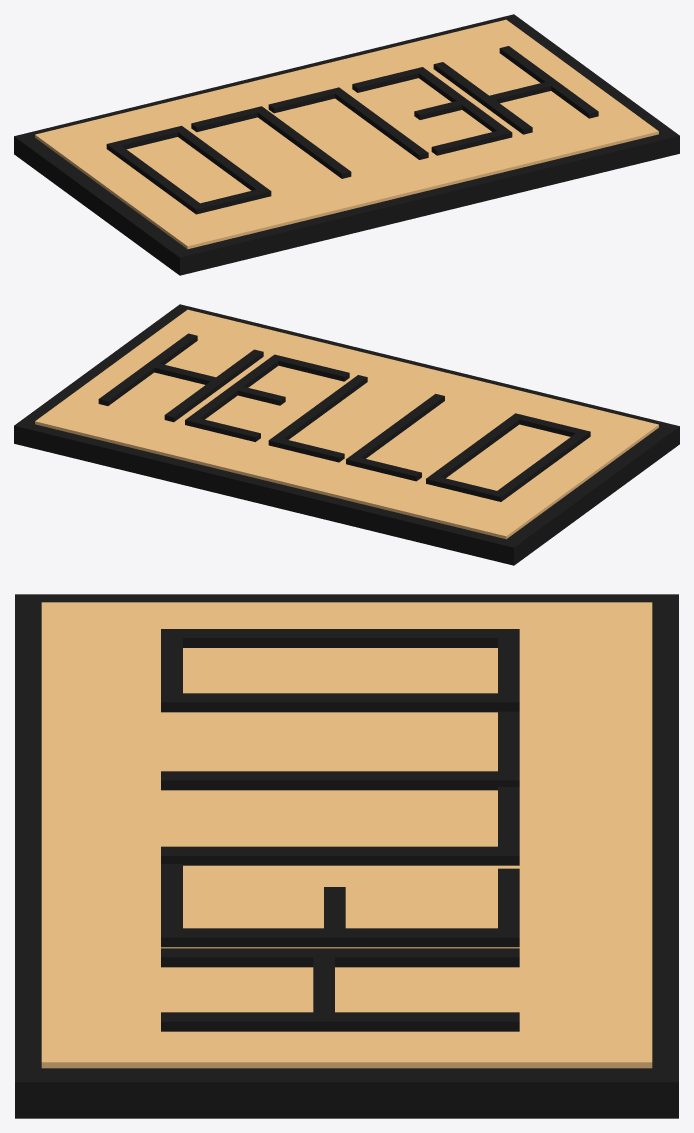
File: hello_doormat.glb
The picture shows the model from 3 angles, top to bottom: view 1: azimuth 30°, elevation 25°; view 2: azimuth 150°, elevation 25°; view 3: azimuth 270°, elevation 25°; orthographic projection. The views are drawn at different scales.
Parts seen in each view (by area): view 1: Node; view 2: Node; view 3: Node.
Part boxes in pixels (x1,y1,x2,y2): Node: [14, 14, 679, 275]; Node: [14, 304, 679, 565]; Node: [15, 594, 678, 1118].
Bounding box in the file's own units: 0.87 × 0.0441 × 0.5.
